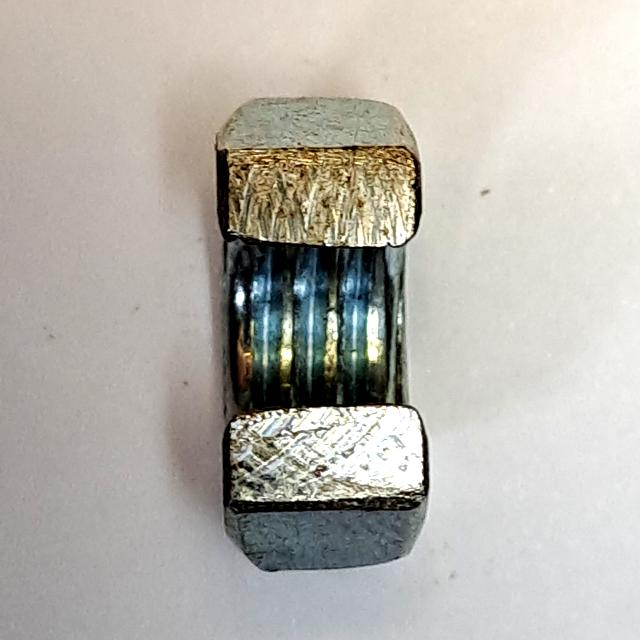Side-Fracture: (190, 85, 450, 587)
